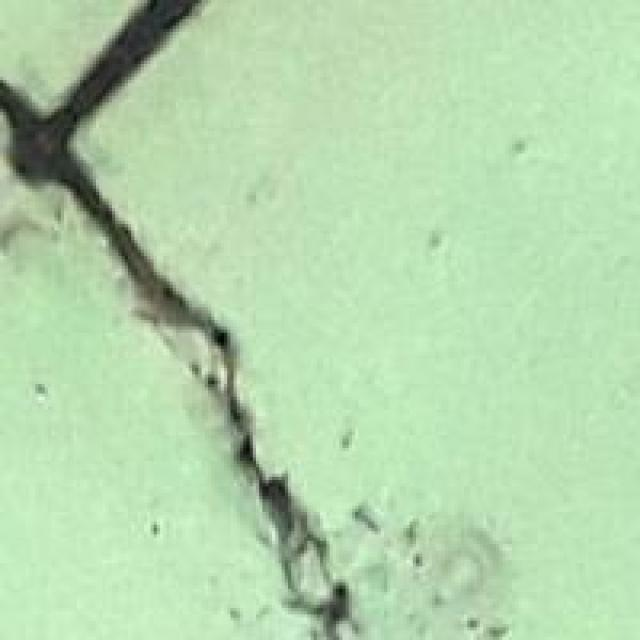Crack: (2, 0, 328, 618)
